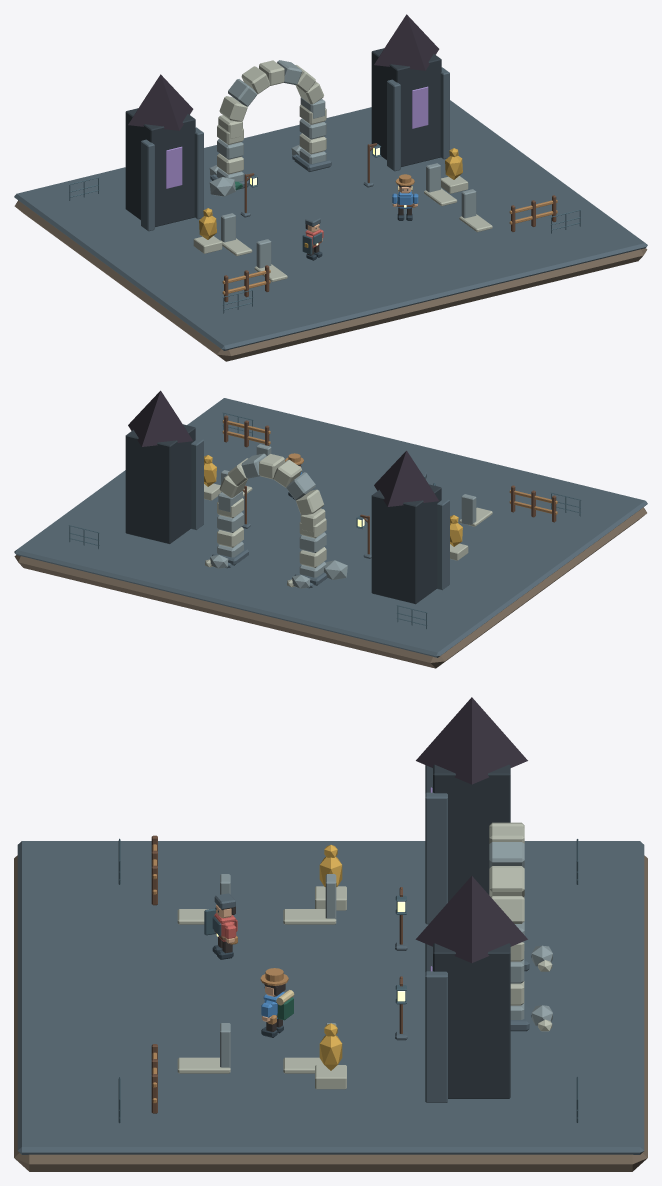
The model's file is world-gothic.glb.
3 views of the same model, one above another, from view 1: azimuth 30°, elevation 25°; view 2: azimuth 150°, elevation 25°; view 3: azimuth 270°, elevation 25° (orthographic). The views are drawn at different scales.
Parts seen in each view (by area): view 1: terrain-top, terrain-stratum, gothic-tower, gothic-tower.001, spire.001, spire, tower-buttress, tower-buttress.002, tower-buttress.003, tower-buttress.001, stained-glass, stained-glass.001 (+2 smaller); view 2: terrain-top, terrain-stratum, gothic-tower, gothic-tower.001, spire, spire.001, tower-buttress, tower-buttress.002, arch-stone.014, arch-stone.016, arch-stone.015, gravestone (+3 smaller); view 3: terrain-top, terrain-stratum, gothic-tower.001, gothic-tower, spire.001, spire, tower-buttress.003, tower-buttress.001, arch-stone.011, arch-stone.012, grave.002, grave.001 (+1 smaller).
Boxes of the visible parts, x1,y1,x2,y2 form: terrain-top: [14, 100, 647, 350]; terrain-stratum: [14, 200, 647, 361]; gothic-tower: [125, 108, 195, 226]; gothic-tower.001: [371, 48, 441, 166]; spire.001: [374, 14, 439, 70]; spire: [128, 74, 193, 130]; tower-buttress: [141, 139, 154, 231]; tower-buttress.002: [387, 79, 400, 171]; tower-buttress.003: [440, 67, 449, 159]; tower-buttress.001: [194, 127, 203, 219]; stained-glass: [166, 146, 182, 188]; stained-glass.001: [412, 86, 428, 128]; terrain-top: [14, 398, 647, 657]; terrain-stratum: [14, 507, 646, 668]; gothic-tower: [371, 484, 441, 604]; gothic-tower.001: [125, 424, 195, 543]; spire: [374, 450, 438, 506]; spire.001: [128, 390, 192, 446]; tower-buttress: [437, 498, 449, 590]; tower-buttress.002: [191, 438, 203, 529]; arch-stone.014: [273, 459, 301, 487]; arch-stone.016: [296, 489, 323, 514]; arch-stone.015: [286, 472, 315, 500]; gravestone: [461, 494, 476, 525]; terrain-top: [17, 841, 644, 1154]; terrain-stratum: [14, 855, 647, 1171]; gothic-tower.001: [433, 943, 510, 1098]; gothic-tower: [433, 764, 510, 902]; spire.001: [415, 876, 527, 962]; spire: [416, 697, 527, 784]; tower-buttress.003: [425, 971, 447, 1102]; tower-buttress.001: [425, 792, 447, 924]; arch-stone.011: [489, 866, 524, 896]; arch-stone.012: [489, 842, 524, 868]; grave.002: [177, 1057, 230, 1073]; grave.001: [283, 909, 336, 924].
Bounding box in the file's own units: 21 × 7.39 × 18.
